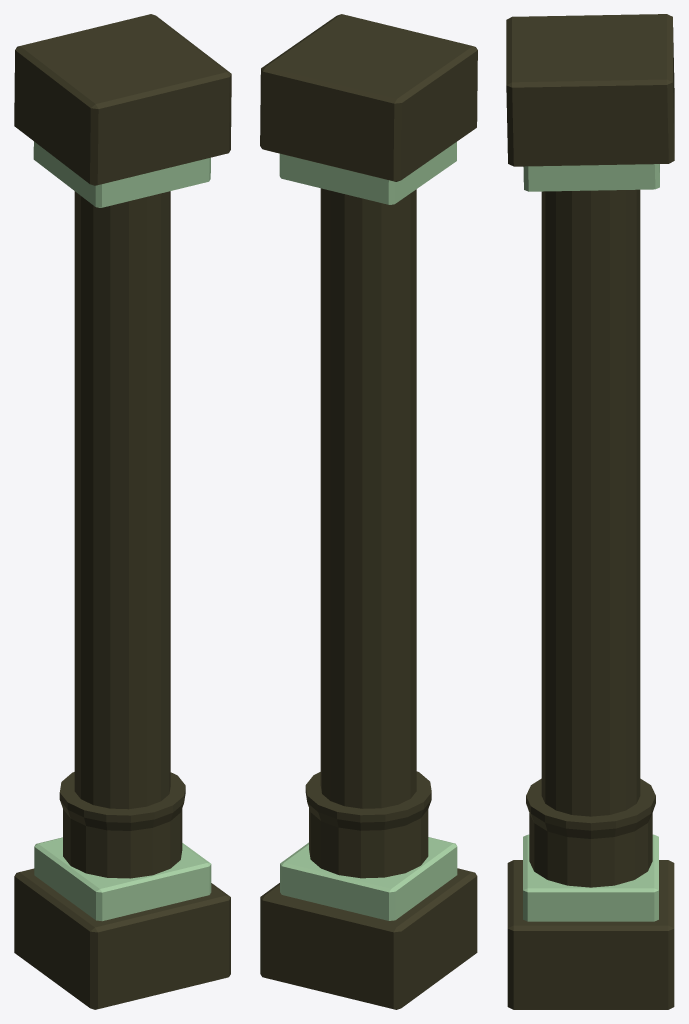
Rendered from pillar4B(F186).obj.
3 views of the same model, side by side, from view 1: azimuth 30°, elevation 25°; view 2: azimuth 150°, elevation 25°; view 3: azimuth 270°, elevation 25° (orthographic). The views are drawn at different scales.
Parts seen in each view (by area): view 1: Cylinder, Cube.002, Cube, Cube.001, Cube.003; view 2: Cylinder, Cube.002, Cube, Cube.001, Cube.003; view 3: Cylinder, Cube.002, Cube, Cube.001, Cube.003.
Boxes of the visible parts, left/top/right/bottom form: Cylinder: left=59, top=191, right=185, bottom=878; Cube.002: left=14, top=14, right=231, bottom=185; Cube: left=14, top=868, right=230, bottom=1009; Cube.001: left=34, top=837, right=211, bottom=921; Cube.003: left=33, top=141, right=210, bottom=207; Cylinder: left=305, top=188, right=431, bottom=878; Cube.002: left=260, top=14, right=477, bottom=181; Cube: left=260, top=868, right=477, bottom=1009; Cube.001: left=280, top=837, right=457, bottom=920; Cube.003: left=279, top=142, right=456, bottom=204; Cylinder: left=526, top=189, right=655, bottom=887; Cube.002: left=506, top=14, right=674, bottom=166; Cube: left=507, top=860, right=674, bottom=1009; Cube.001: left=523, top=834, right=658, bottom=921; Cube.003: left=523, top=164, right=659, bottom=191.
Bounding box in the file's own units: 1.03 × 6.37 × 1.04.
